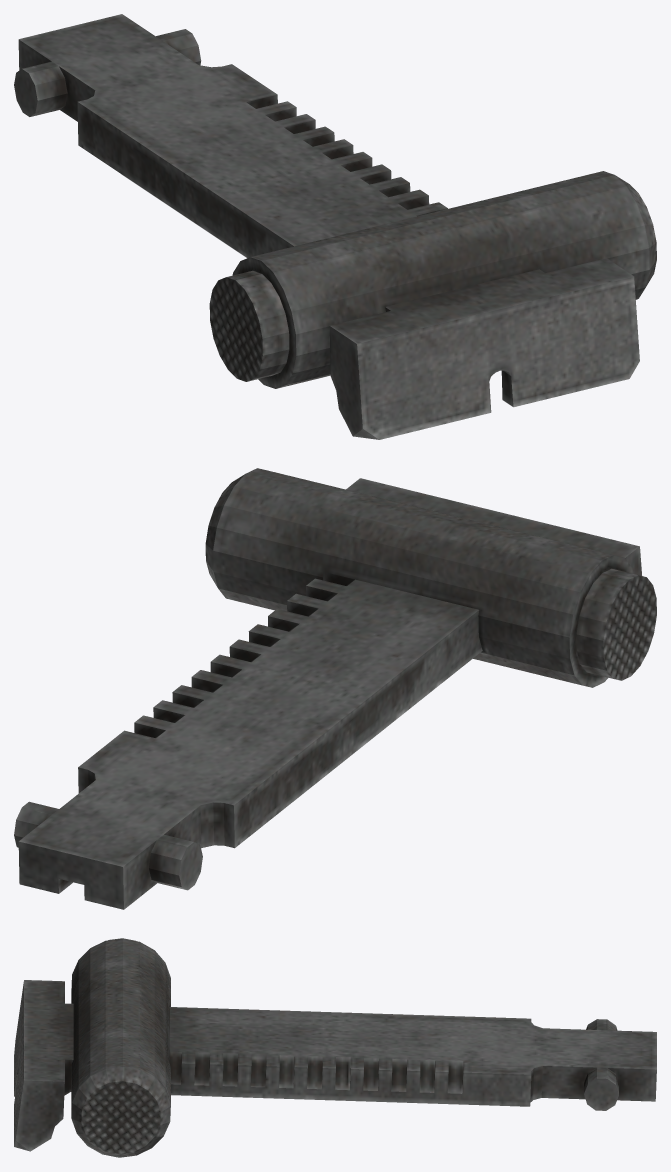
3 views of the same model, one above another, from view 1: azimuth 30°, elevation 25°; view 2: azimuth 150°, elevation 25°; view 3: azimuth 270°, elevation 25° (orthographic). The views are drawn at different scales.
Visible parts, largest first — view 1: TW_5ac733a45acfc400192630e2_PZ_Import; view 2: TW_5ac733a45acfc400192630e2_PZ_Import; view 3: TW_5ac733a45acfc400192630e2_PZ_Import.
Part boxes in pixels (x1,y1,x2,y2): TW_5ac733a45acfc400192630e2_PZ_Import: (14,14,656,439); TW_5ac733a45acfc400192630e2_PZ_Import: (14,468,656,909); TW_5ac733a45acfc400192630e2_PZ_Import: (14,938,656,1157).
Bounding box in the file's own units: 0.0177 × 0.0336 × 0.00588.
Materials: 1 (1 with a texture image).
